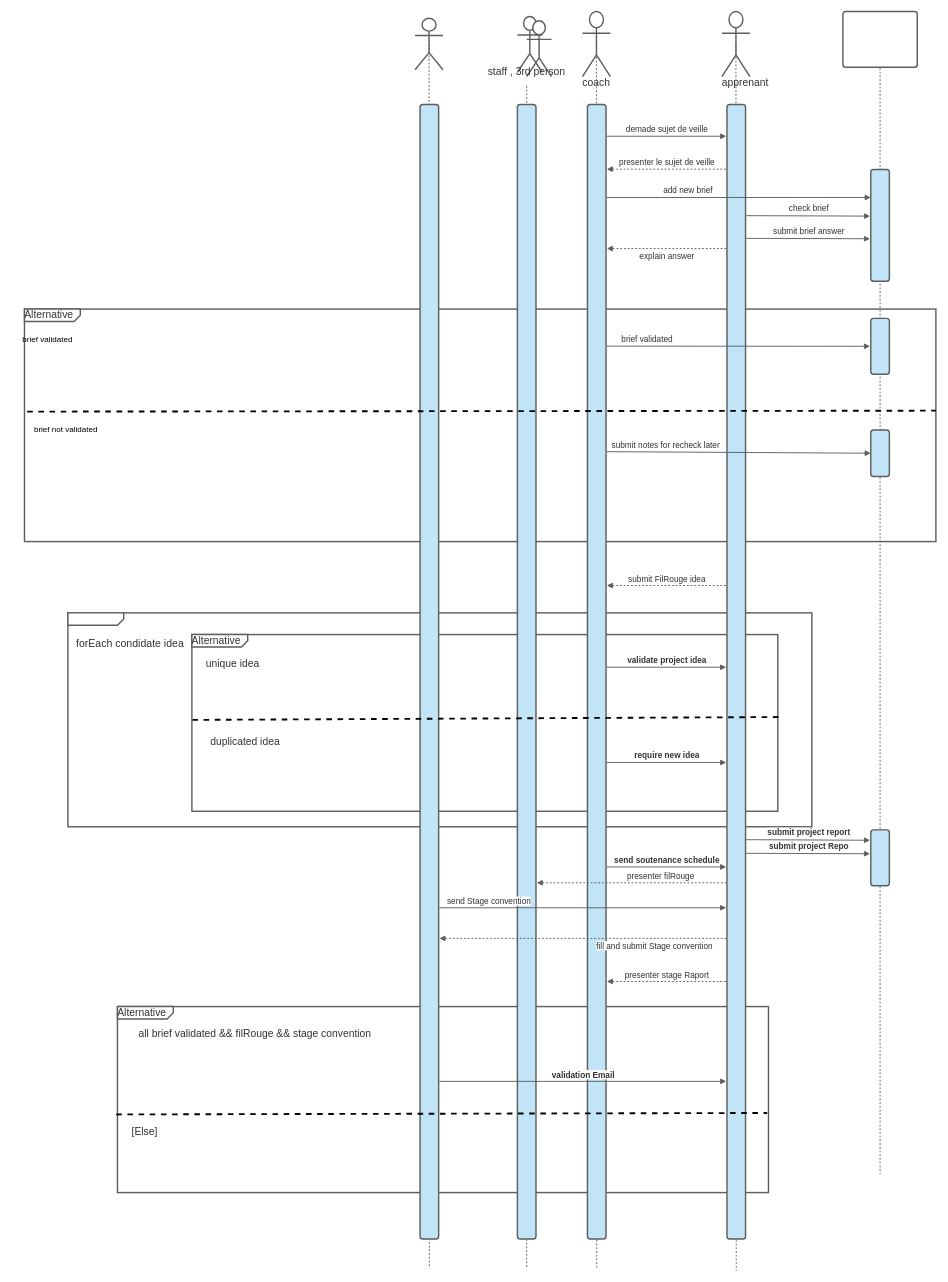
The diagram is 948 pixels wide and 1282 high, and some of its shapes have lost their labels. The shapes that lost their labels are listed below. From the top down, each one's box as (x1, y1, x2, y2) in pixels, then its label:
(414, 17, 443, 70): administration
(842, 10, 918, 68): simplone platform
(67, 612, 812, 827): Loop
